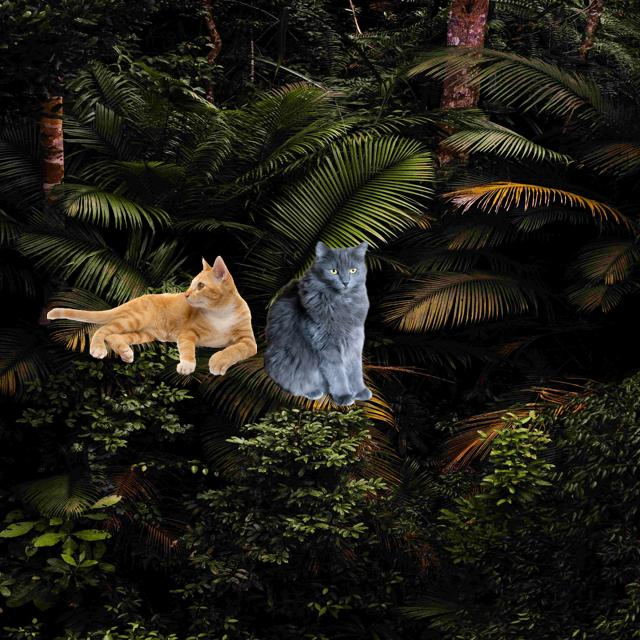cat: (49, 256, 255, 376), (262, 240, 373, 407)
